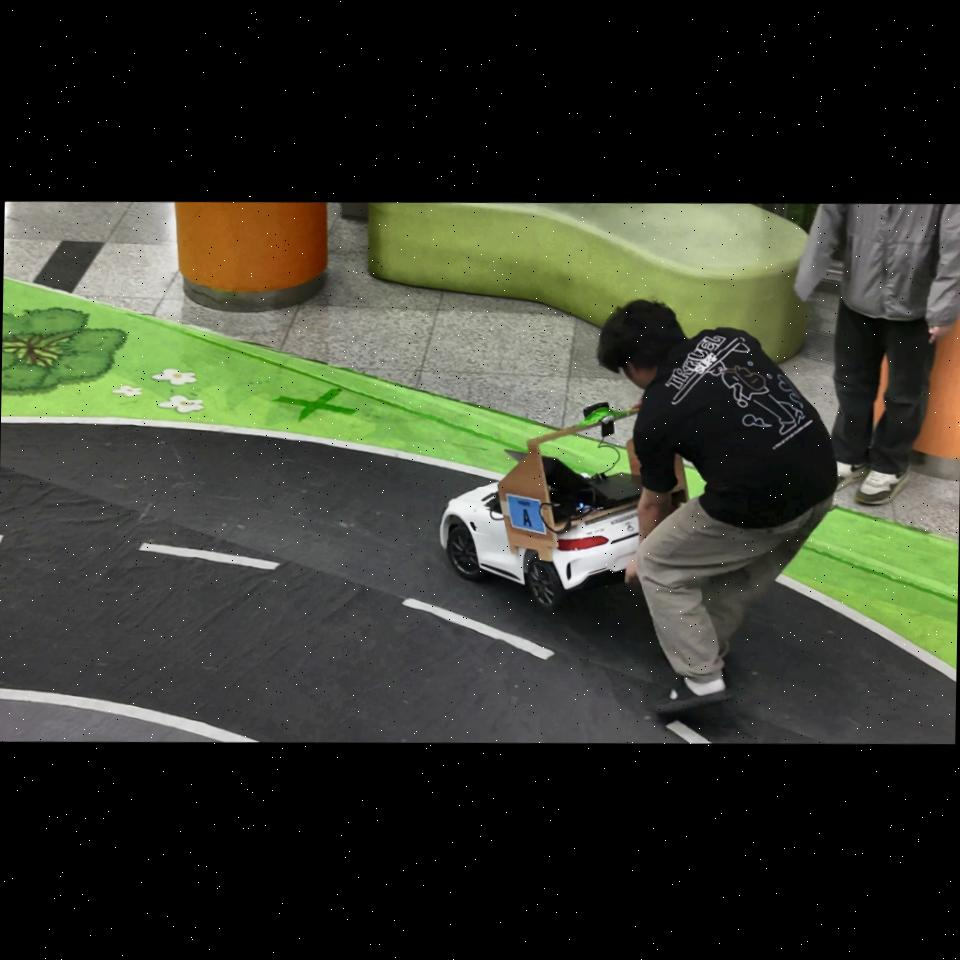broken_line: (403, 598, 555, 661), (139, 543, 282, 570), (666, 721, 711, 743), (0, 534, 4, 542)
